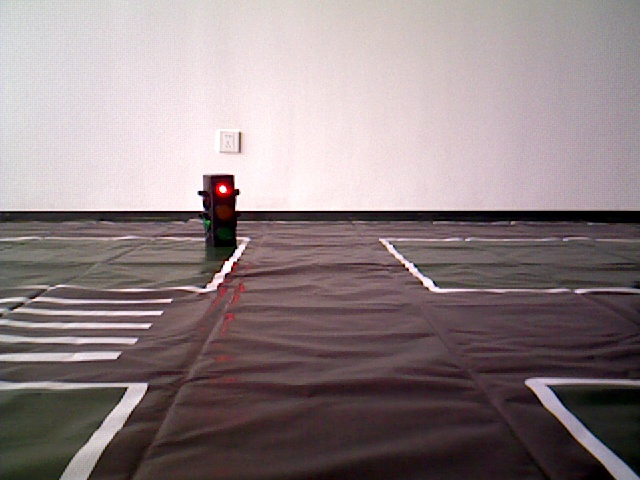red: (204, 178, 236, 250)
